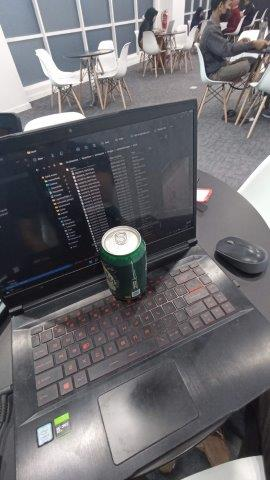kaleng: (100, 225, 147, 298)
